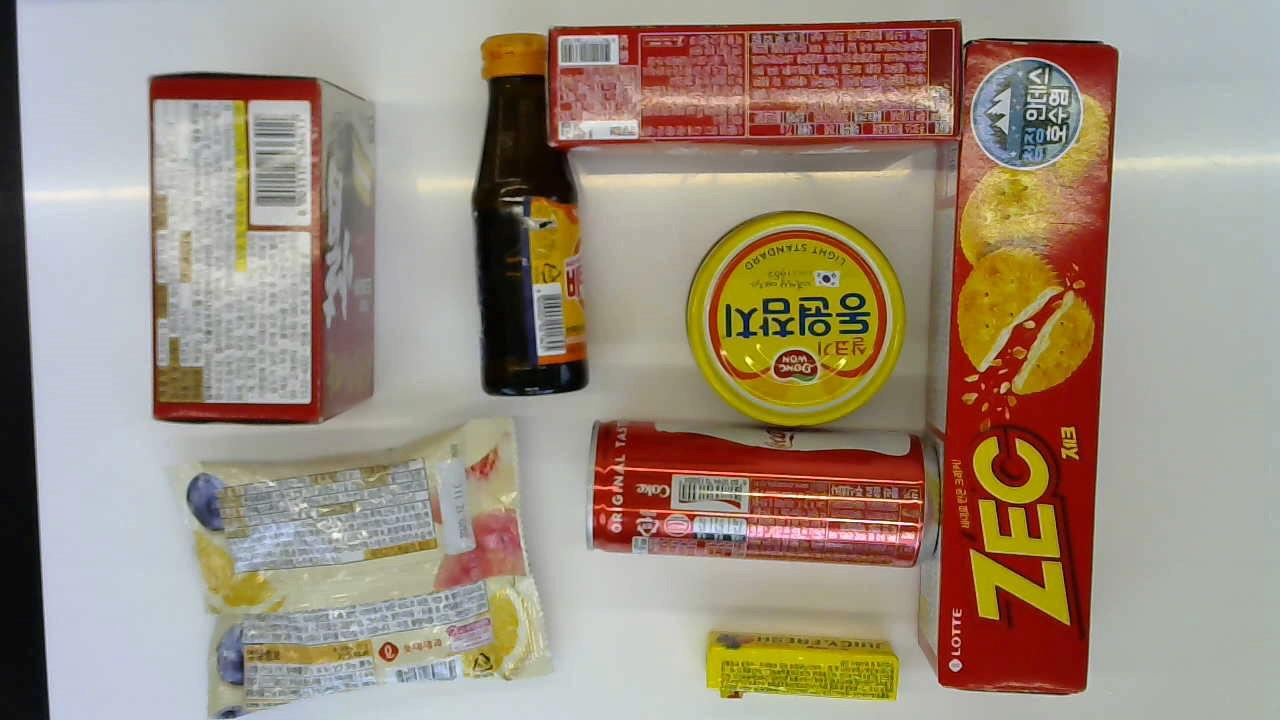chocopie: (144, 71, 374, 429)
coke: (583, 418, 935, 569)
couque_white: (543, 19, 963, 175)
gumi_gumi: (176, 413, 556, 715)
juicyfresh: (700, 630, 900, 701)
tuna: (687, 215, 896, 427)
vita500: (467, 32, 592, 393)
zec: (918, 41, 1115, 695)
